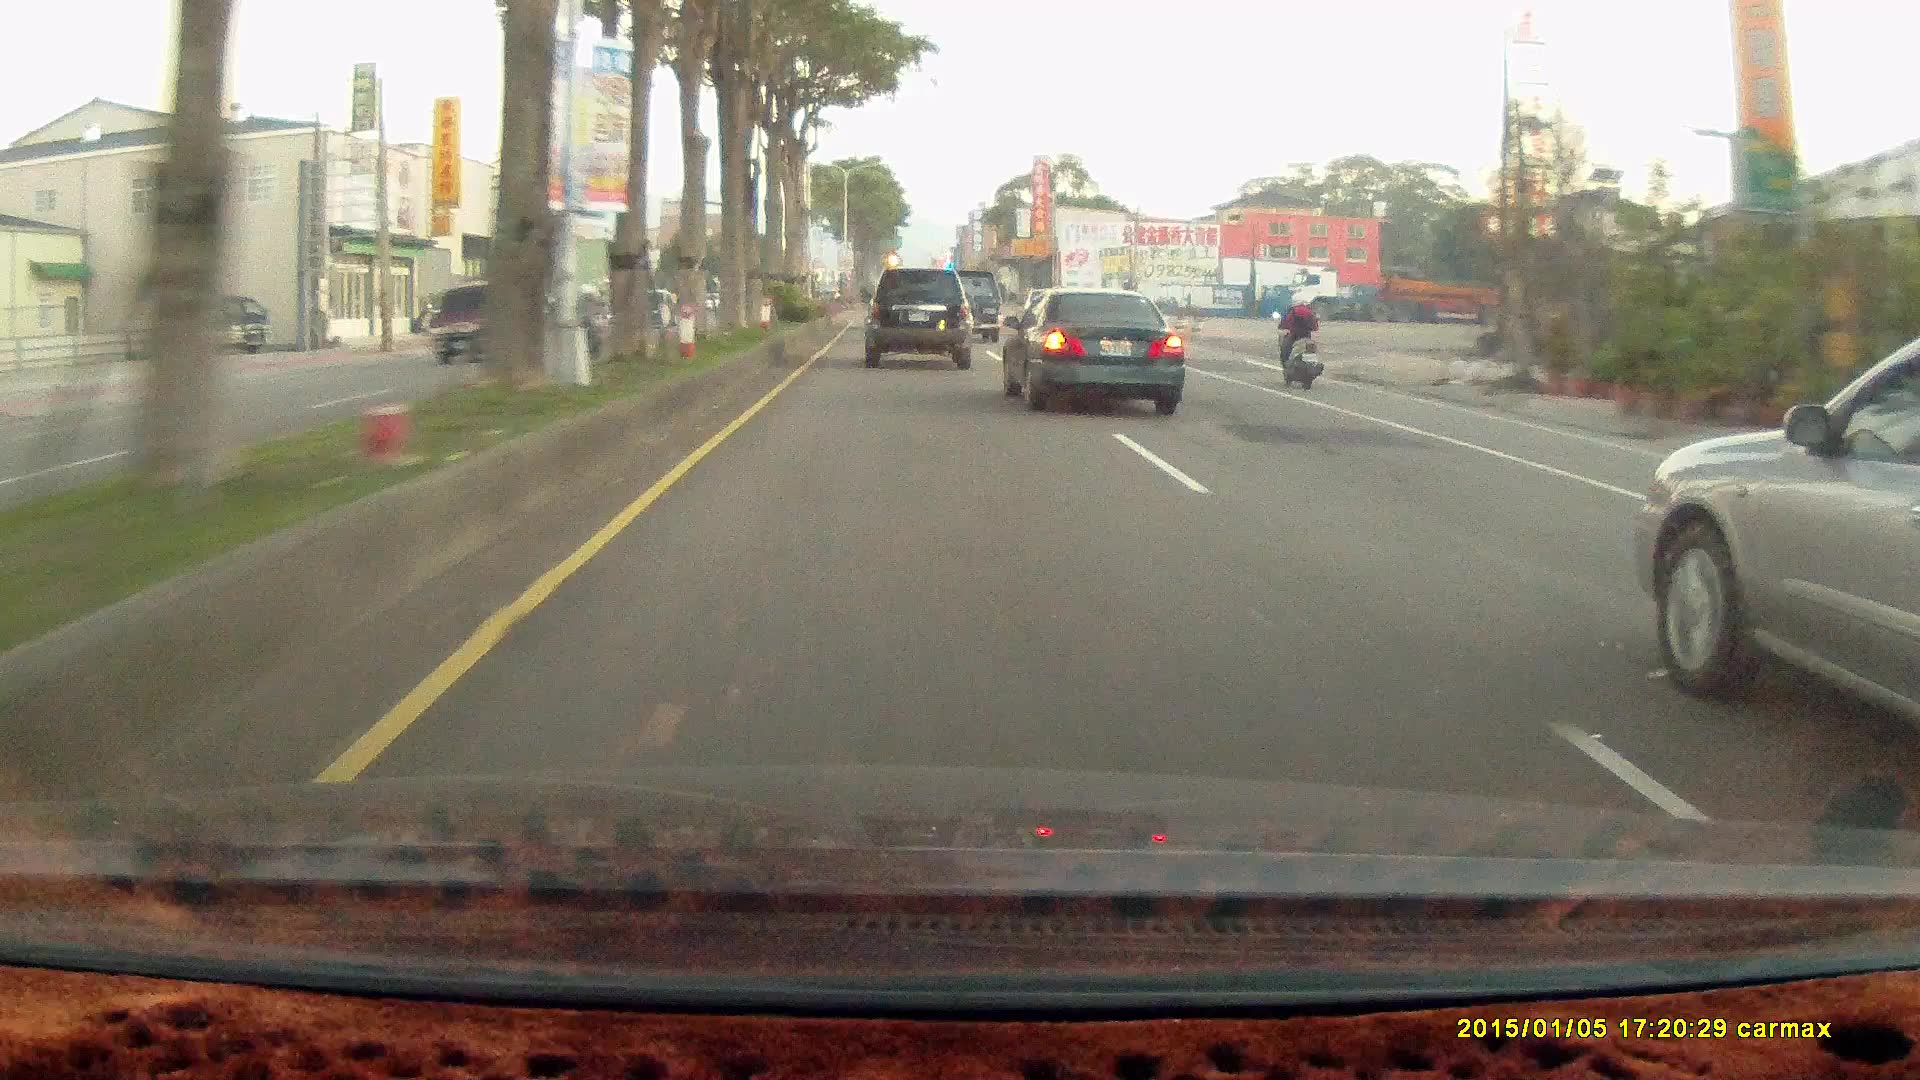rider: (1268, 287, 1330, 392), (1271, 287, 1324, 390)
vehicle: (1639, 333, 1918, 767), (1000, 290, 1190, 414), (1001, 285, 1184, 412), (1292, 265, 1541, 323), (864, 268, 976, 371), (860, 270, 973, 371), (426, 279, 530, 367), (161, 299, 270, 362), (161, 297, 270, 357), (937, 272, 1006, 347)
